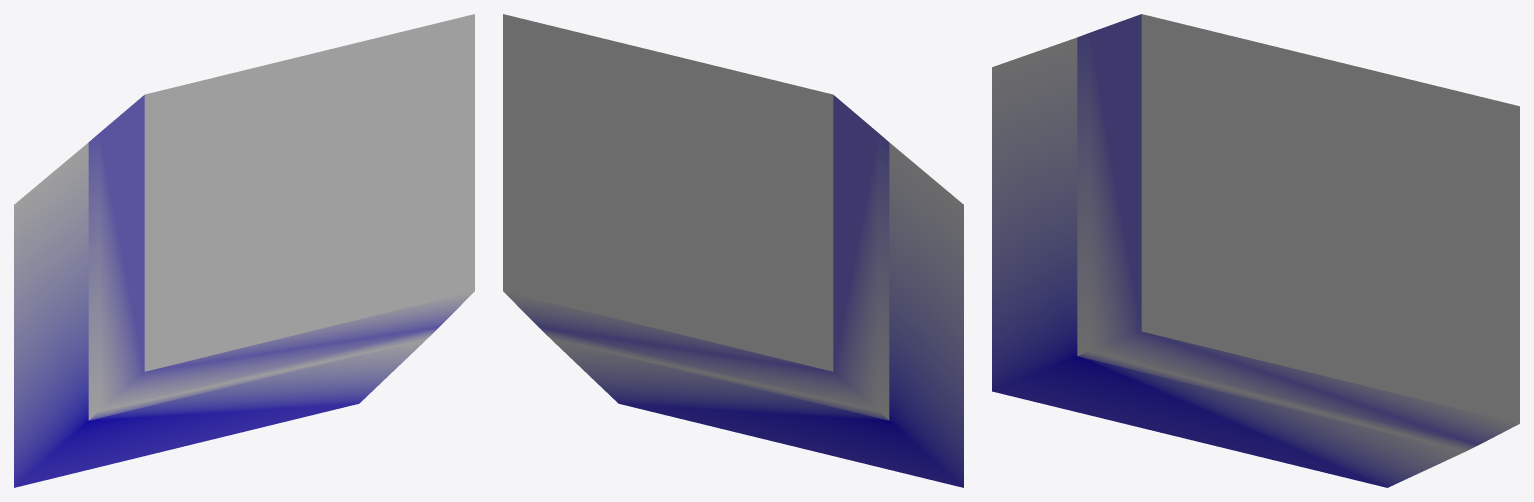
File: OutSideLie_U_Shadow.fbx
3 views of the same model, side by side, from view 1: azimuth 30°, elevation 25°; view 2: azimuth 150°, elevation 25°; view 3: azimuth 330°, elevation 25° (orthographic). The views are drawn at different scales.
Parts seen in each view (by area): view 1: OutSideLie_U_Shadow; view 2: OutSideLie_U_Shadow; view 3: OutSideLie_U_Shadow.
Boxes of the visible parts, x1,y1,x2,y2 form: OutSideLie_U_Shadow: (14, 14, 474, 487); OutSideLie_U_Shadow: (503, 14, 963, 487); OutSideLie_U_Shadow: (992, 14, 1519, 487).
Bounding box in the file's own units: 6.1 × 4.57 × 8.9e-07.
